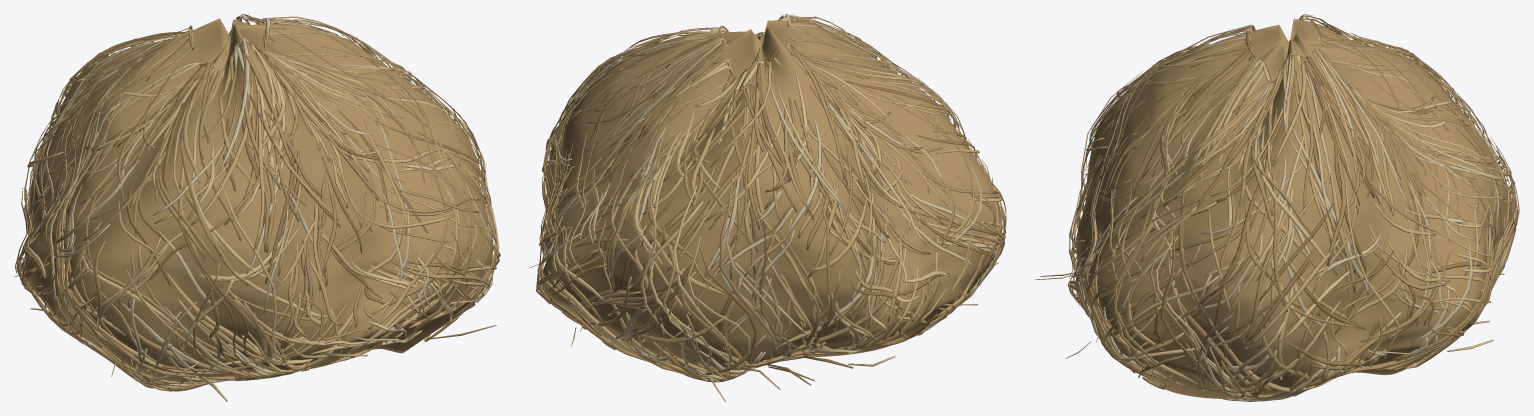
File: monte_feno.glb
The picture shows the model from 3 angles, left to right: view 1: azimuth 30°, elevation 25°; view 2: azimuth 150°, elevation 25°; view 3: azimuth 270°, elevation 25°; orthographic projection.
Parts seen in each view (by area): view 1: Monte de feno | Feno | dourado seco, Monte de feno | Feno | palha mel, Monte de feno | Feno | fibras claras, Monte de feno | Feno | sombra tostada, Monte de feno | Feno | palha pálida; view 2: Monte de feno | Feno | dourado seco, Monte de feno | Feno | palha mel, Monte de feno | Feno | fibras claras, Monte de feno | Feno | palha pálida, Monte de feno | Feno | sombra tostada; view 3: Monte de feno | Feno | dourado seco, Monte de feno | Feno | palha mel, Monte de feno | Feno | sombra tostada, Monte de feno | Feno | fibras claras, Monte de feno | Feno | palha pálida.
Boxes of the visible parts, x1,y1,x2,y2 form: Monte de feno | Feno | dourado seco: (19,15,500,391); Monte de feno | Feno | palha mel: (17,14,497,391); Monte de feno | Feno | fibras claras: (17,18,499,401); Monte de feno | Feno | sombra tostada: (14,19,496,385); Monte de feno | Feno | palha pálida: (15,16,495,385); Monte de feno | Feno | dourado seco: (537,16,1006,380); Monte de feno | Feno | palha mel: (538,17,1006,389); Monte de feno | Feno | fibras claras: (529,16,1005,401); Monte de feno | Feno | palha pálida: (537,14,1000,382); Monte de feno | Feno | sombra tostada: (536,15,1004,385); Monte de feno | Feno | dourado seco: (1069,15,1515,400); Monte de feno | Feno | palha mel: (1040,14,1517,401); Monte de feno | Feno | sombra tostada: (1065,18,1517,401); Monte de feno | Feno | fibras claras: (1071,21,1519,379); Monte de feno | Feno | palha pálida: (1035,18,1507,401).
Bounding box in the file's own units: 0.8248 × 0.5849 × 0.8082.
